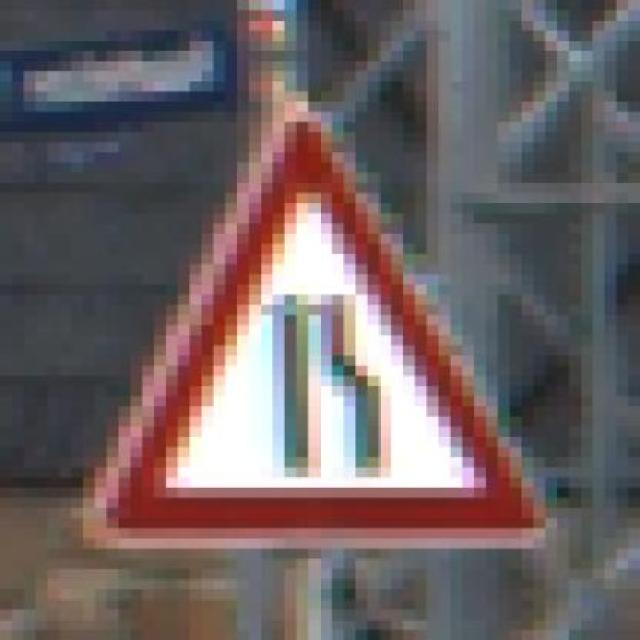-Road narrows on right: (66, 100, 552, 557)
